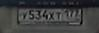license-plateSW: (18, 8, 82, 22)
